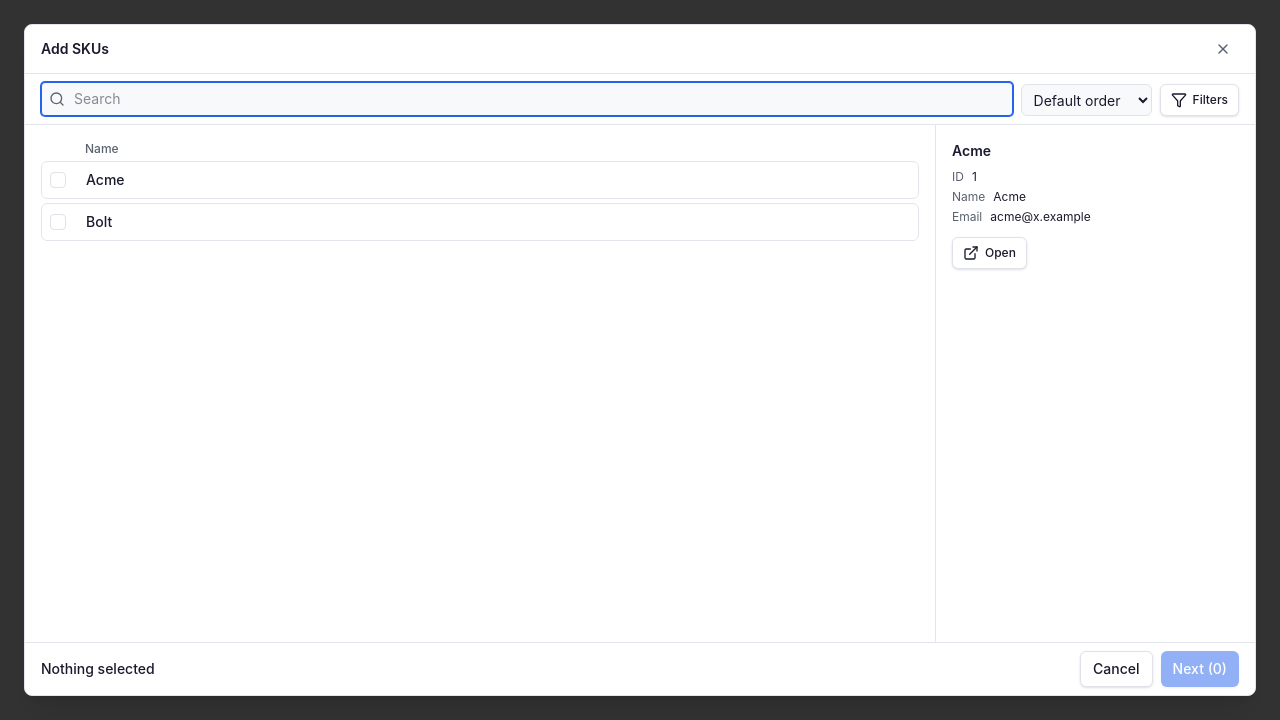
Scenario: RelatedRecordPickerDialog › MULTI_CHILD: an add error keeps the review open
This screenshot has width=1280, height=720.
What coordinates should you click on to do the following:
click the option "Acme"
I would click on:
 (105, 180)
Its box is [41,161,919,199].
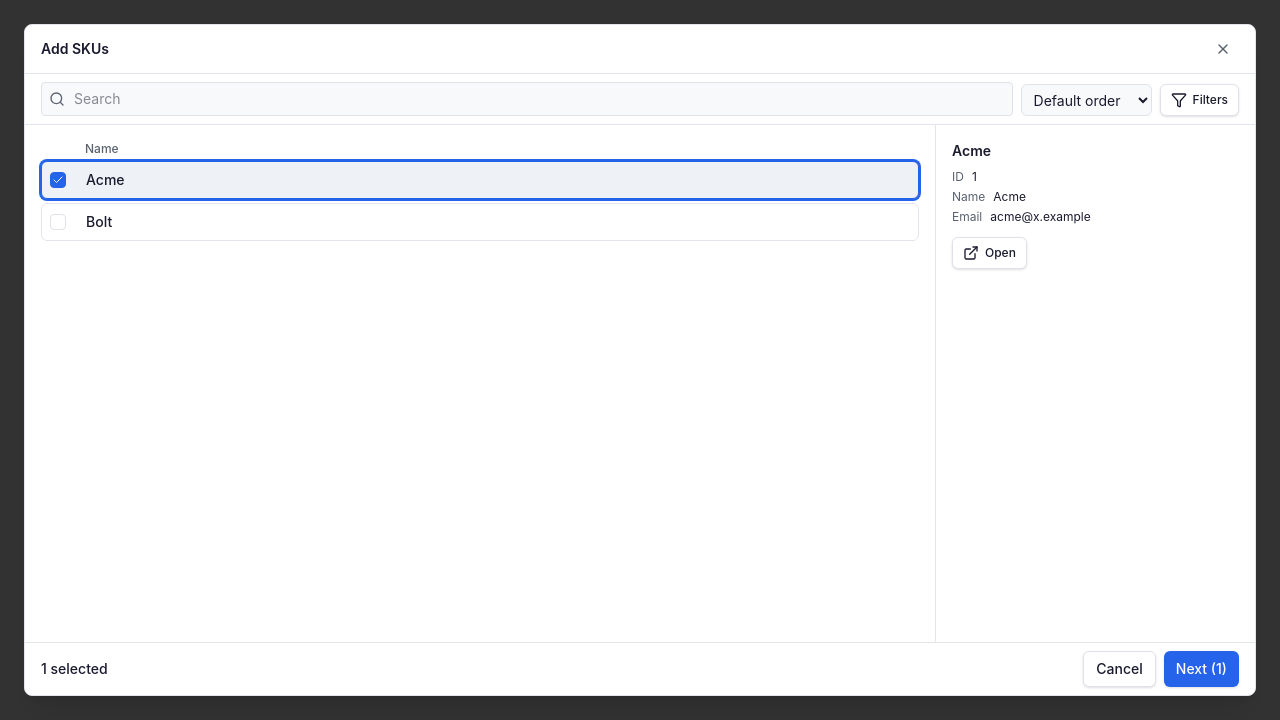
What coordinates should you click on to do the following:
click the button "Next (1)"
I would click on:
 (1201, 669)
Its box is [1164,651,1239,687].
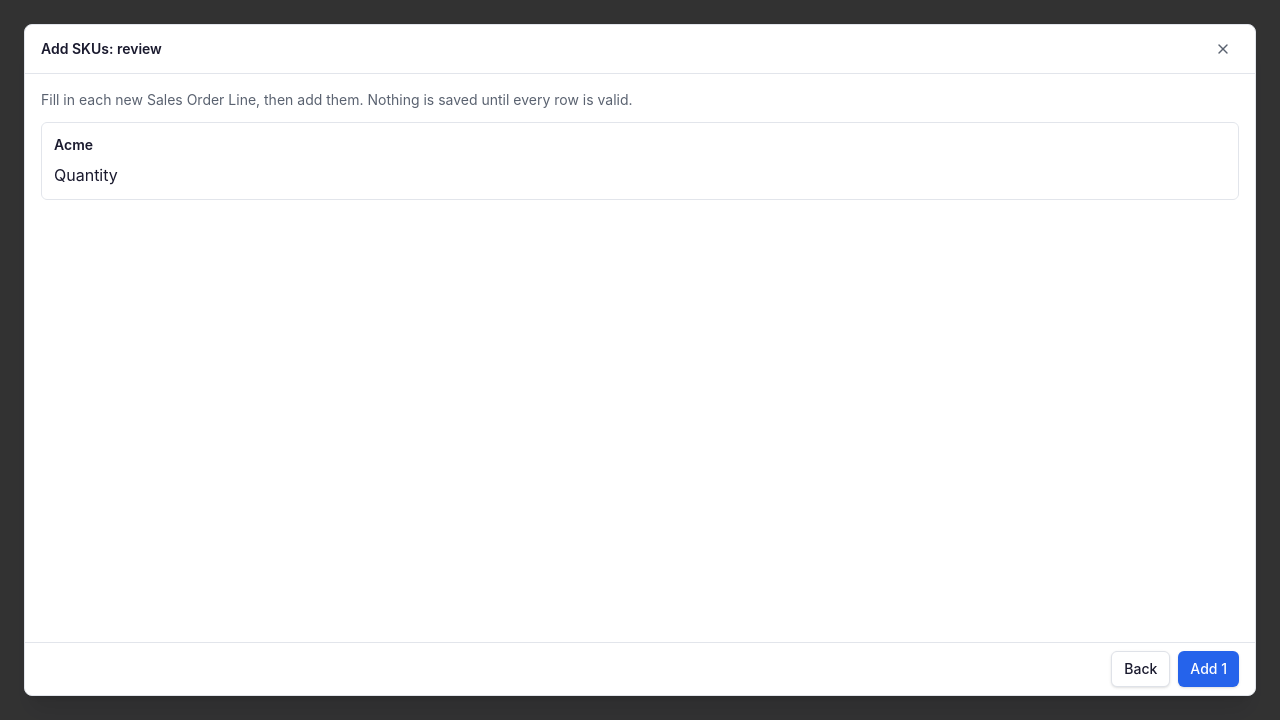
What coordinates should you click on to do the following:
click the button "Add 1"
I would click on:
 (1209, 669)
Its box is [1178,651,1239,687].
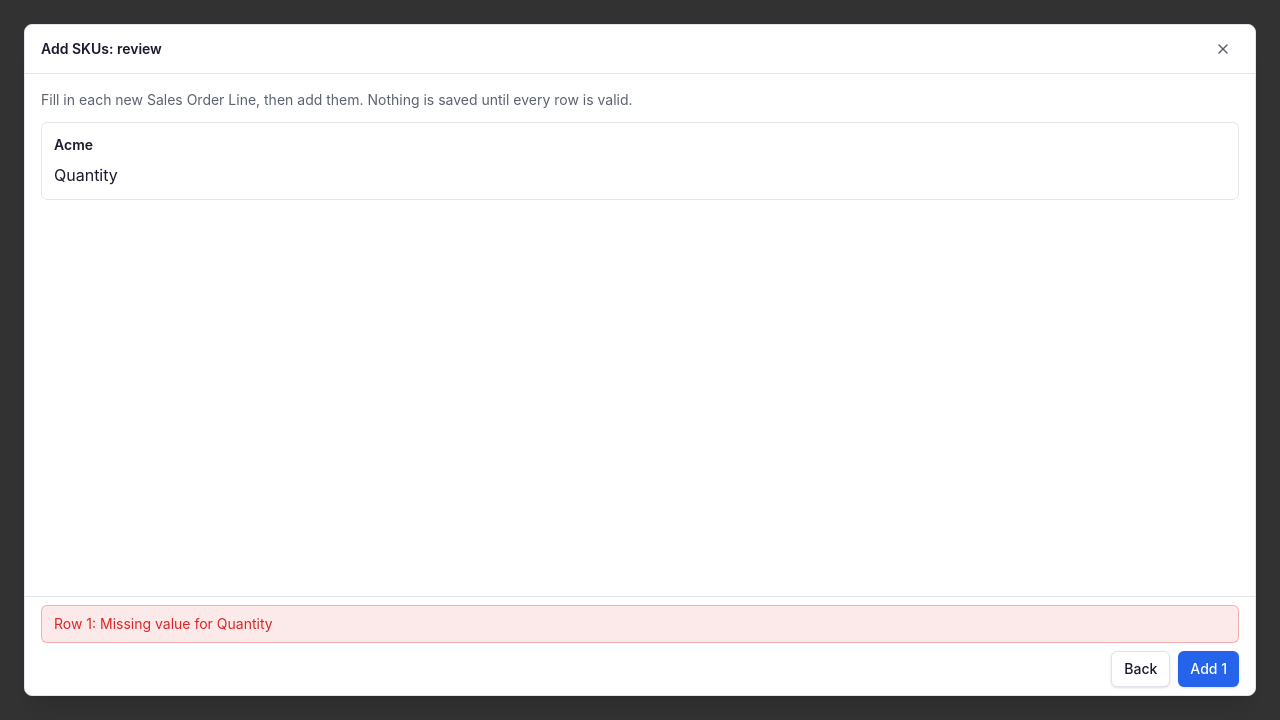
Now the message shows "Row 1", box [54,615,273,632]
